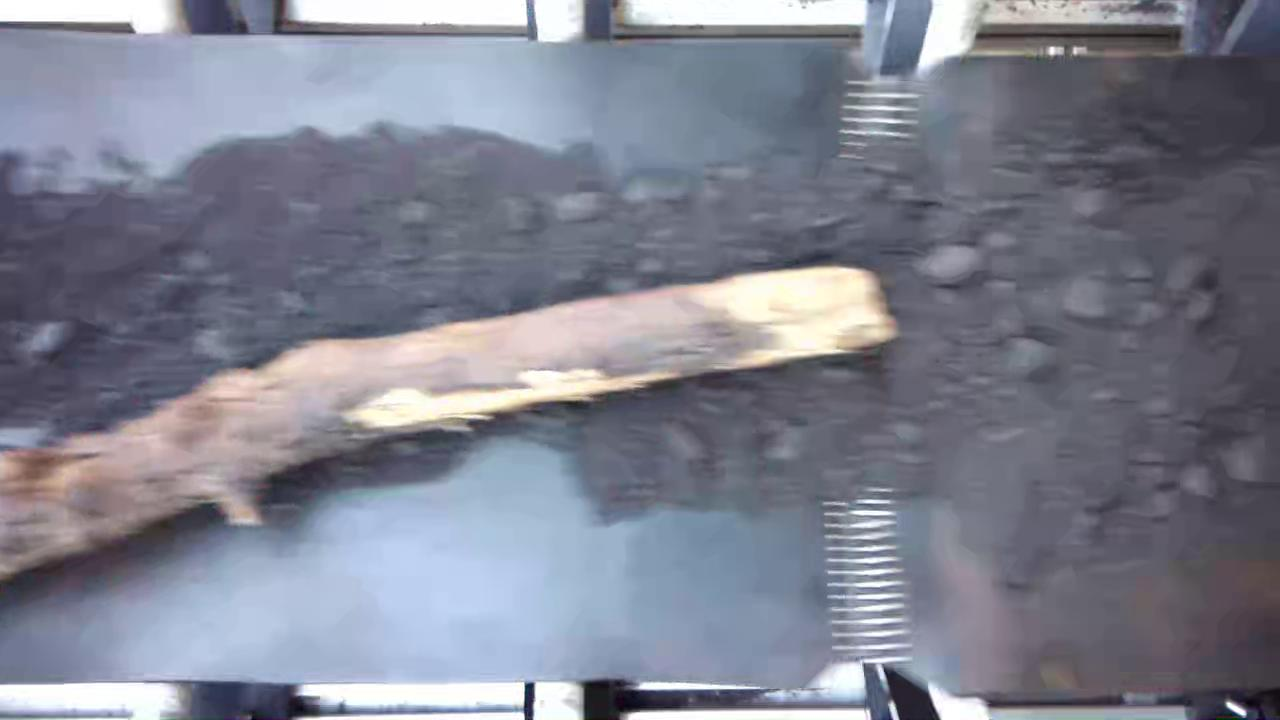conveyor: (3, 54, 1280, 692)
